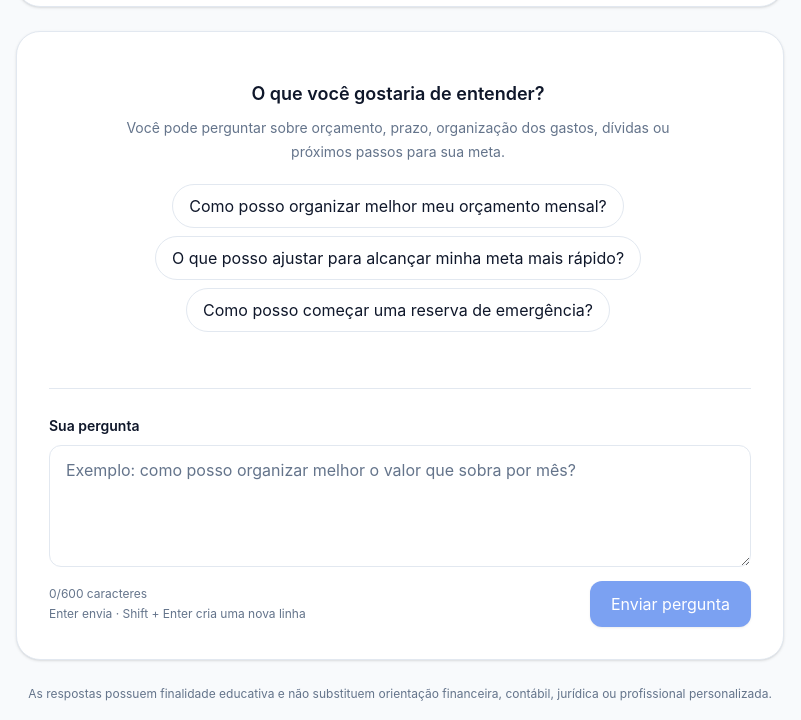
Scenario: ChatPage › mantém a conversa visível quando a persistência falha
(page scrolled)
Step 1. Replace the text in the text box labelled "Sua pergunta" with "Como posso organizar meu orçamento?" → (400,506), box [49,445,751,567]
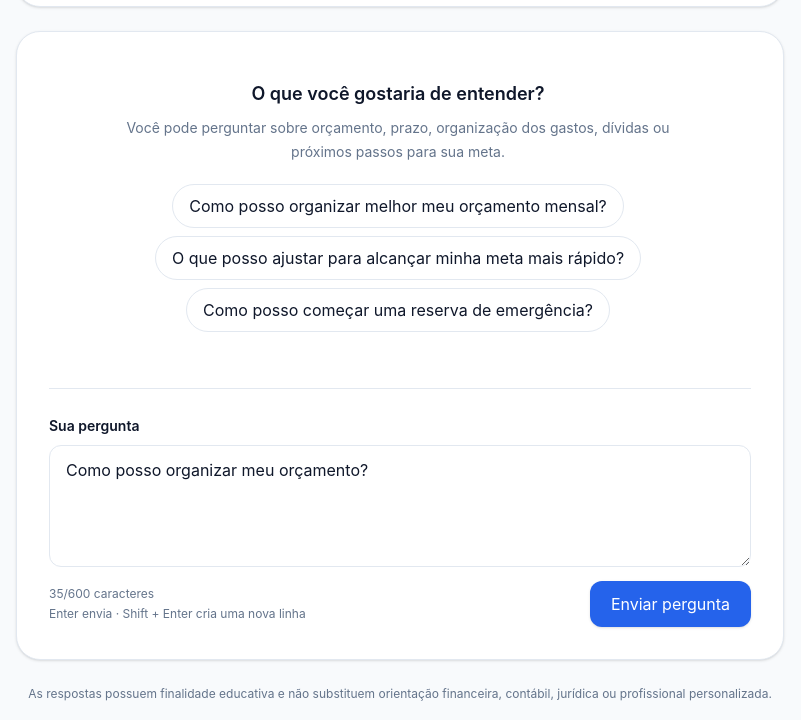
Step 2. Click the button "Enviar pergunta" → (670,604), box [590,581,751,627]
(page scrolled)
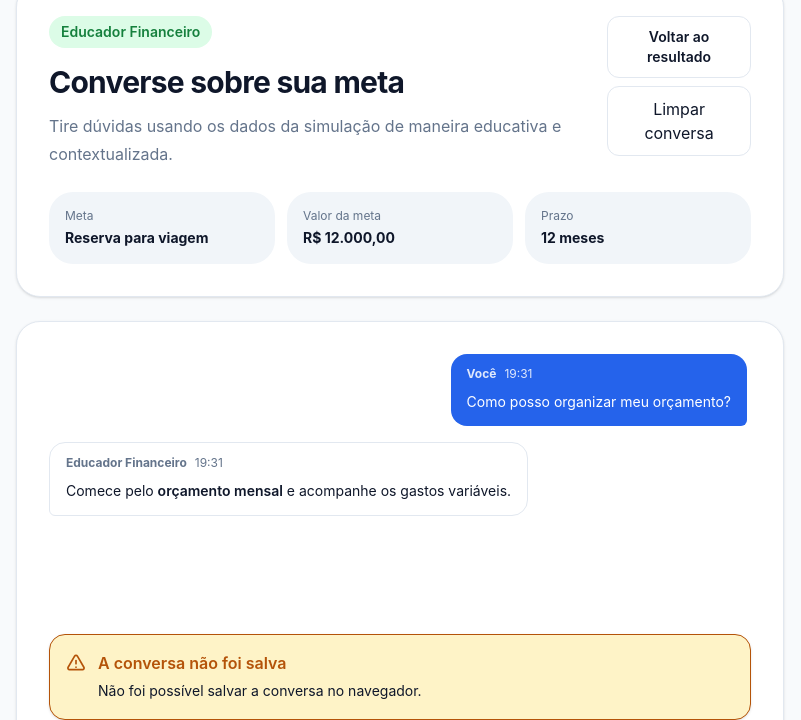
Expected: the text "orçamento mensal" is shown, [158,482,283,499]
Result: the element named "Mensagem de Você" is shown at [451,354,747,426]
Result: the element named "Mensagem de Educador Financeiro" is shown at [49,442,528,516]
